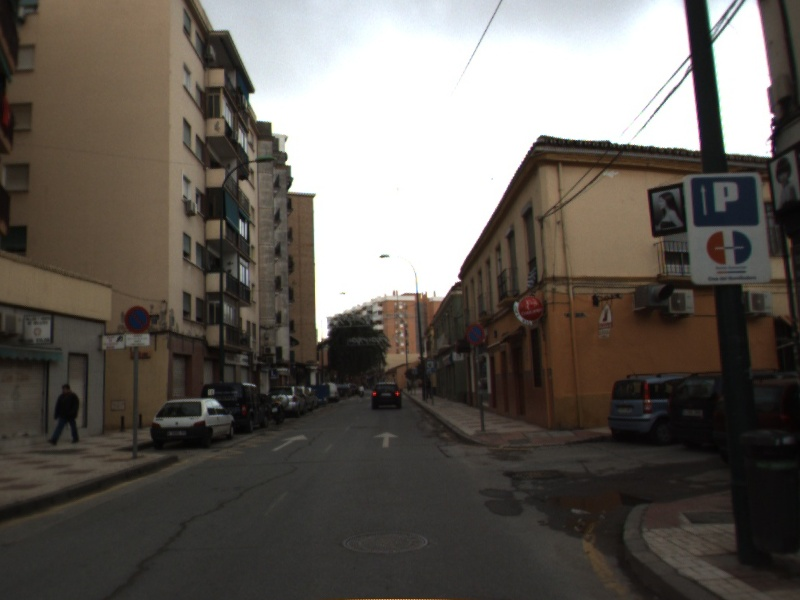STRAIGHT: (270, 431, 310, 453), (372, 429, 401, 450)
